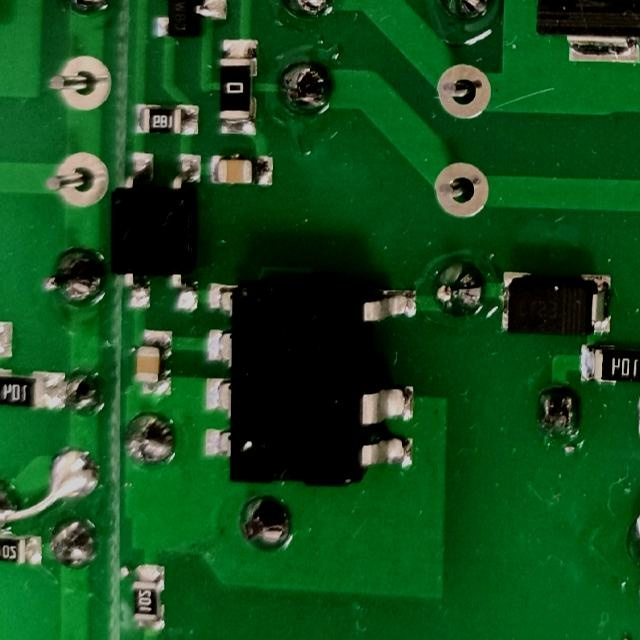chip-capacitor: (133, 327, 171, 399), (205, 152, 272, 191)
chip-resistor: (215, 34, 258, 138), (576, 342, 640, 389), (0, 367, 65, 413), (130, 100, 199, 139), (129, 561, 164, 632), (0, 529, 41, 567)
diode: (494, 267, 610, 340)
ic: (204, 278, 416, 489), (106, 153, 202, 316)
transistor: (150, 0, 230, 43)
